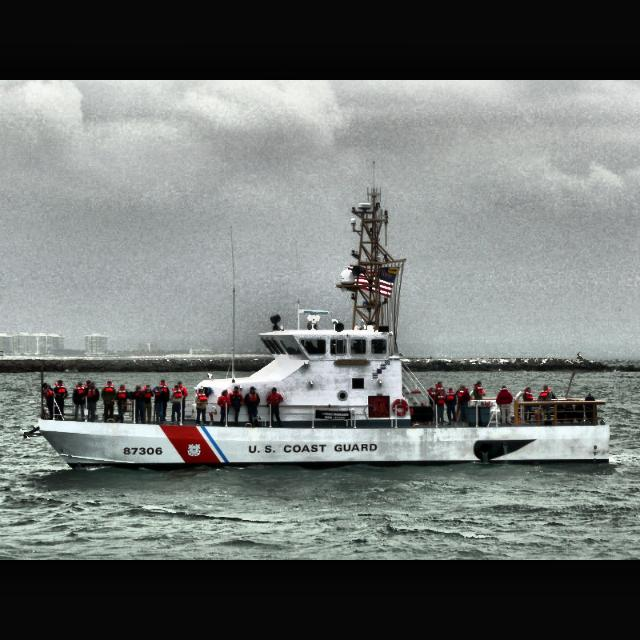patrol_vessel: (34, 189, 614, 473)
